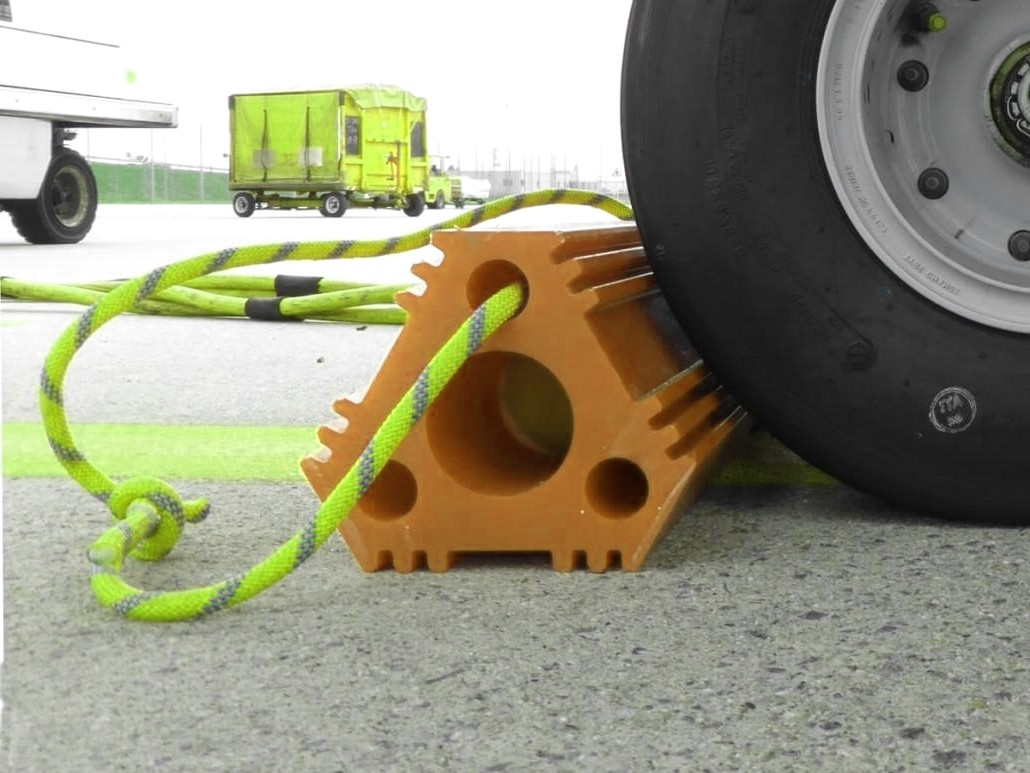chock: (299, 221, 757, 576)
wheel: (619, 0, 1029, 529), (13, 151, 97, 243), (321, 191, 347, 216), (234, 192, 256, 217), (403, 191, 424, 215), (431, 188, 449, 210)
